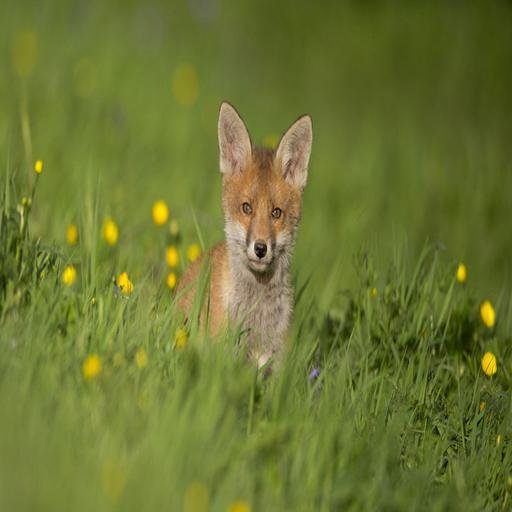Fox: (163, 101, 337, 402)
